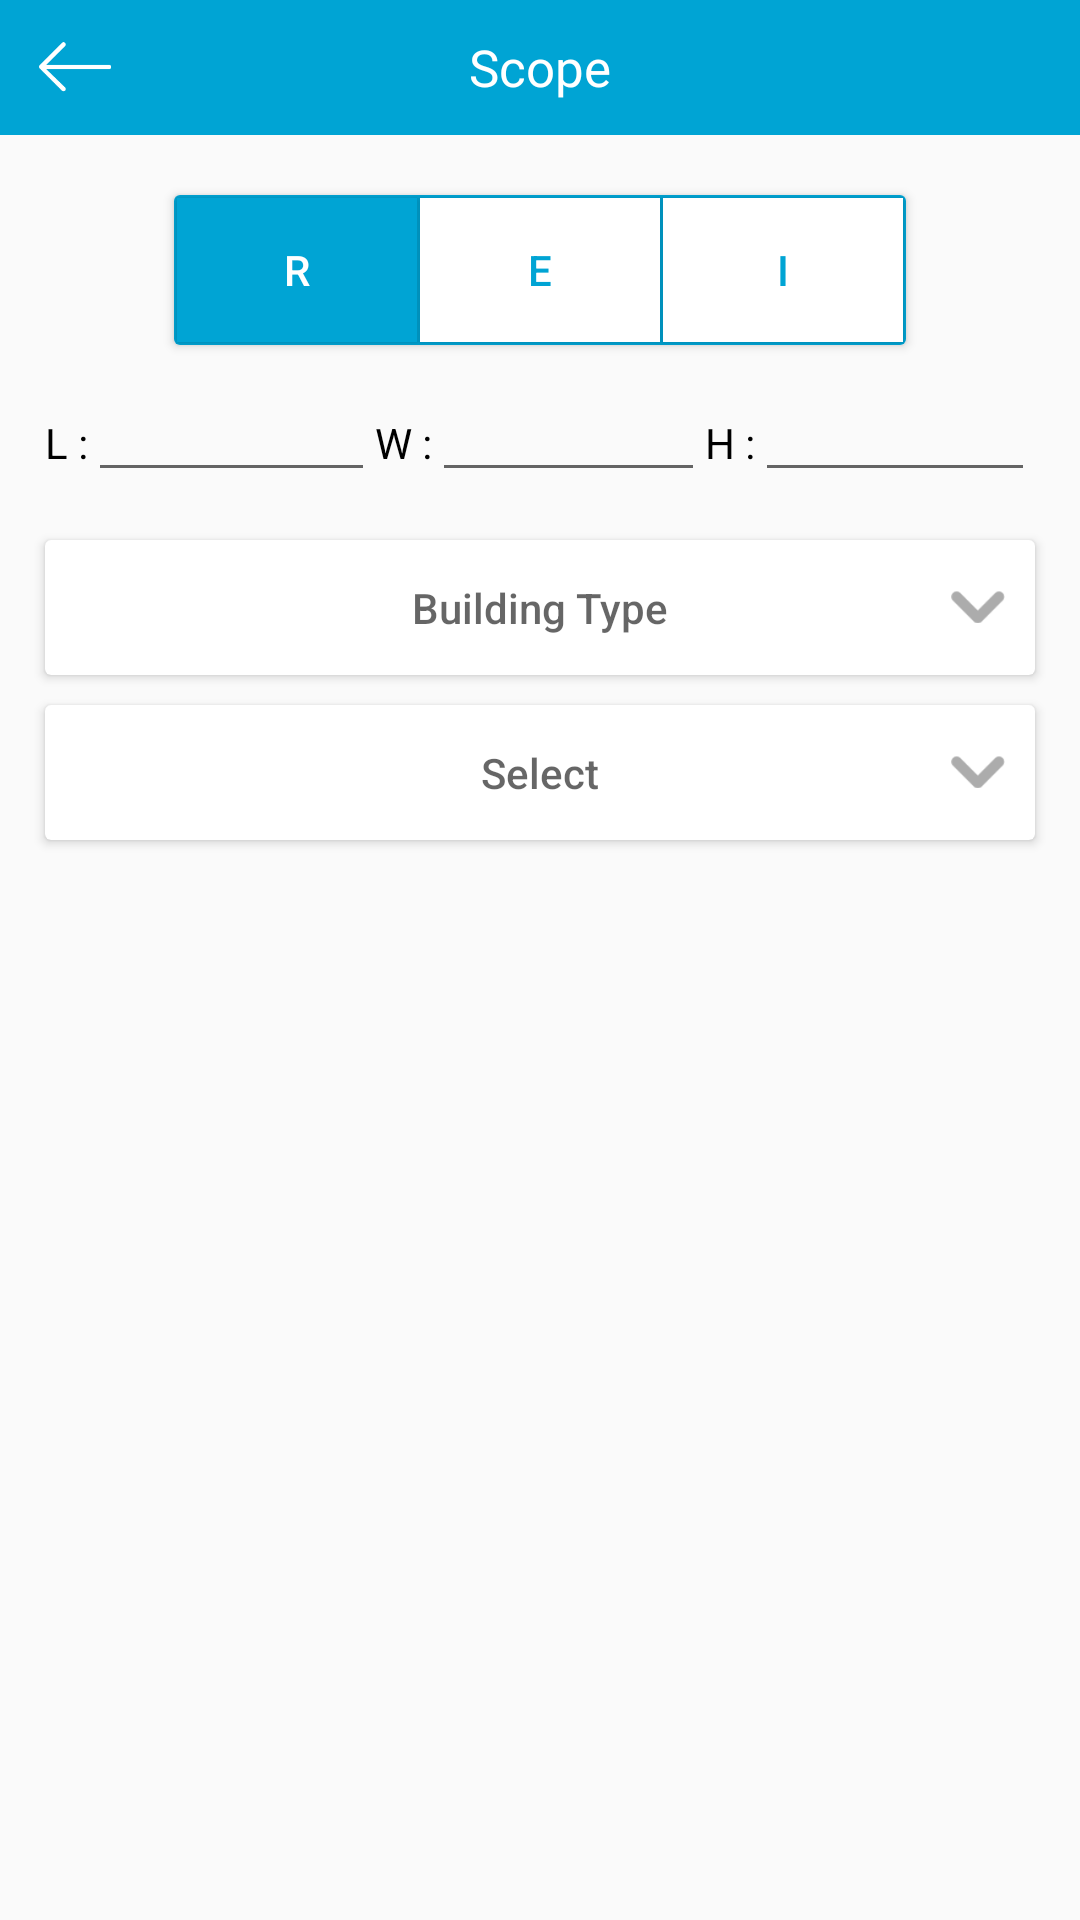

Screen size 1080×1920. Icon name, then its center in pixels as point (x, y):
downarrow: point (977, 607), point (977, 772)
whitebackarrow: point (75, 67)
